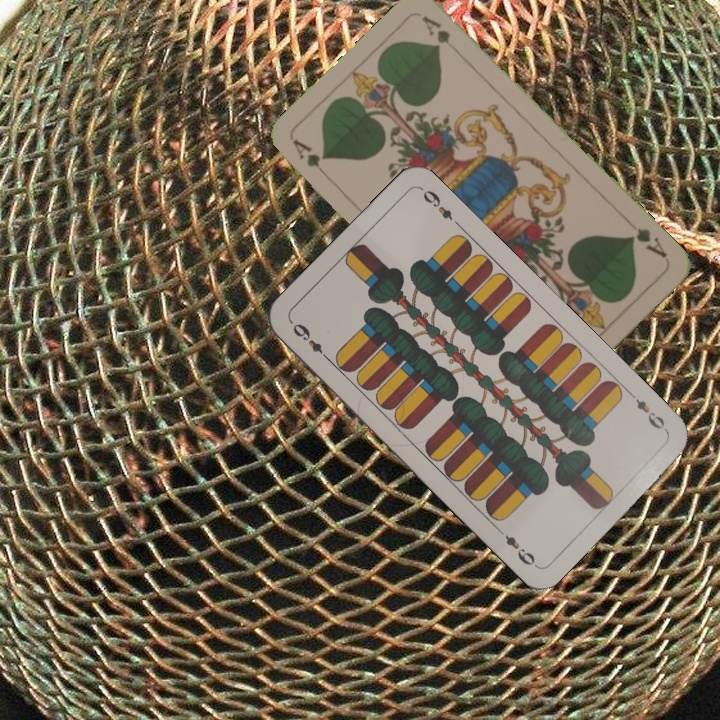E9: (625, 388, 671, 435), (288, 319, 333, 364)
GA: (288, 135, 335, 184), (623, 216, 670, 261)
